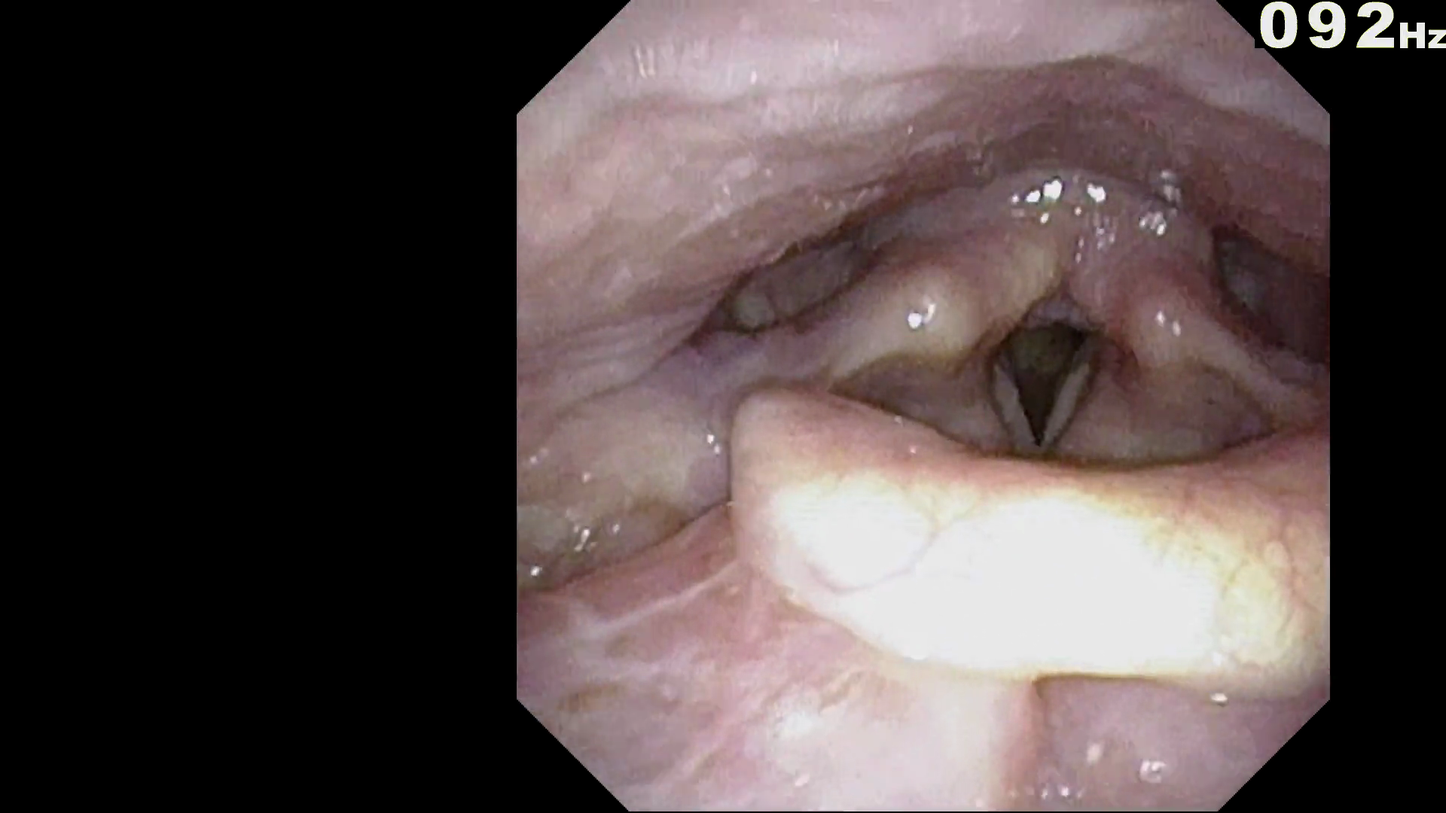epiglottis: (688, 355, 1326, 663)
trachea: (939, 271, 1119, 482)
